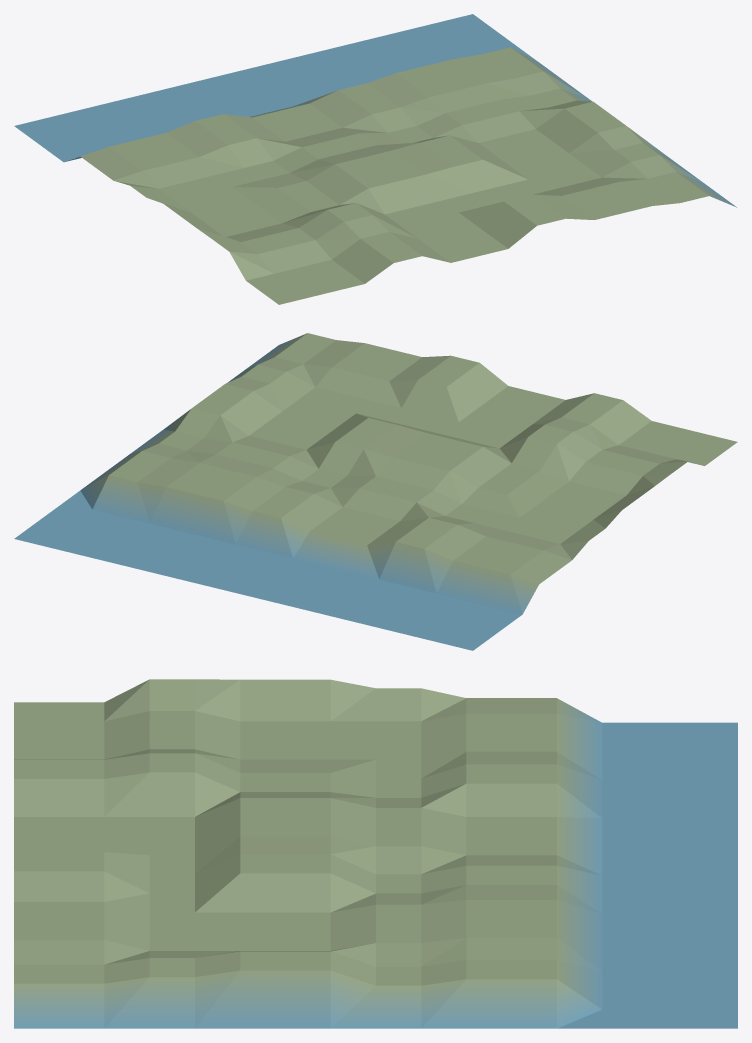
3 renders of one model, top to bottom at view 1: azimuth 30°, elevation 25°; view 2: azimuth 150°, elevation 25°; view 3: azimuth 270°, elevation 25°, orthographic. The views are drawn at different scales.
Bounding box in the file's own units: 32 × 2.24 × 32.
